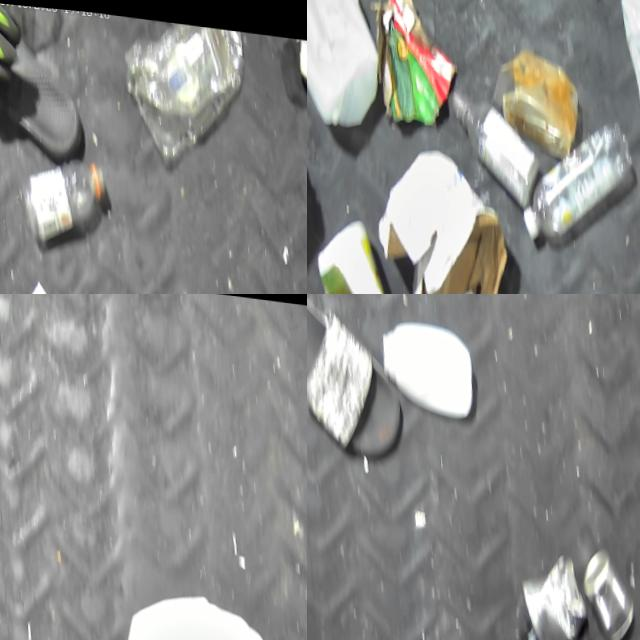can: (503, 537, 581, 640), (565, 533, 627, 640), (294, 28, 307, 93)
milk_jug: (307, 0, 392, 139), (100, 576, 282, 640), (610, 0, 640, 158)
non_white_jug: (307, 217, 410, 294)
plastic_bottle: (502, 98, 640, 246), (11, 139, 109, 245)
